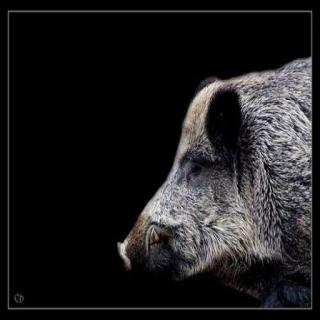Pig: (110, 30, 320, 320)
